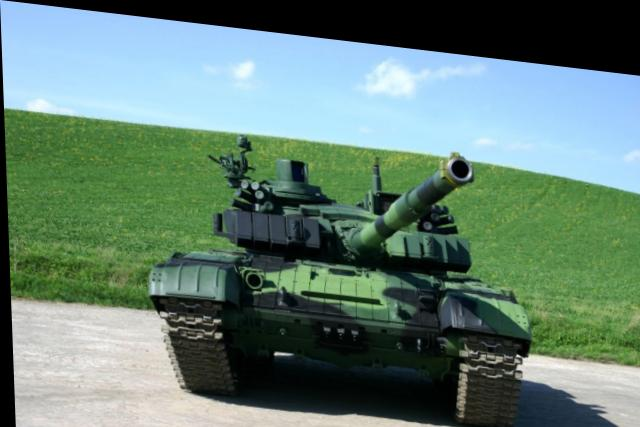tank: (145, 126, 531, 411)
